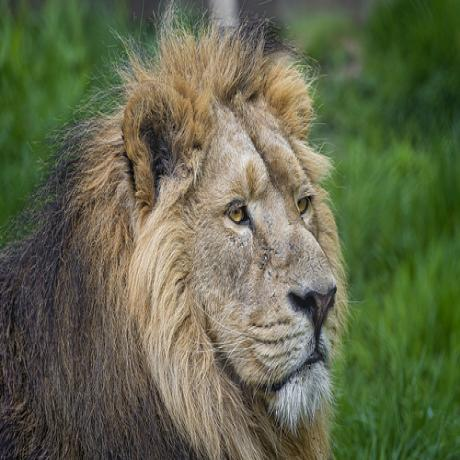Lion: (0, 11, 350, 460)
